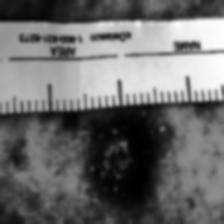Potentially Malignant Skin Tumors: (64, 112, 162, 210)
